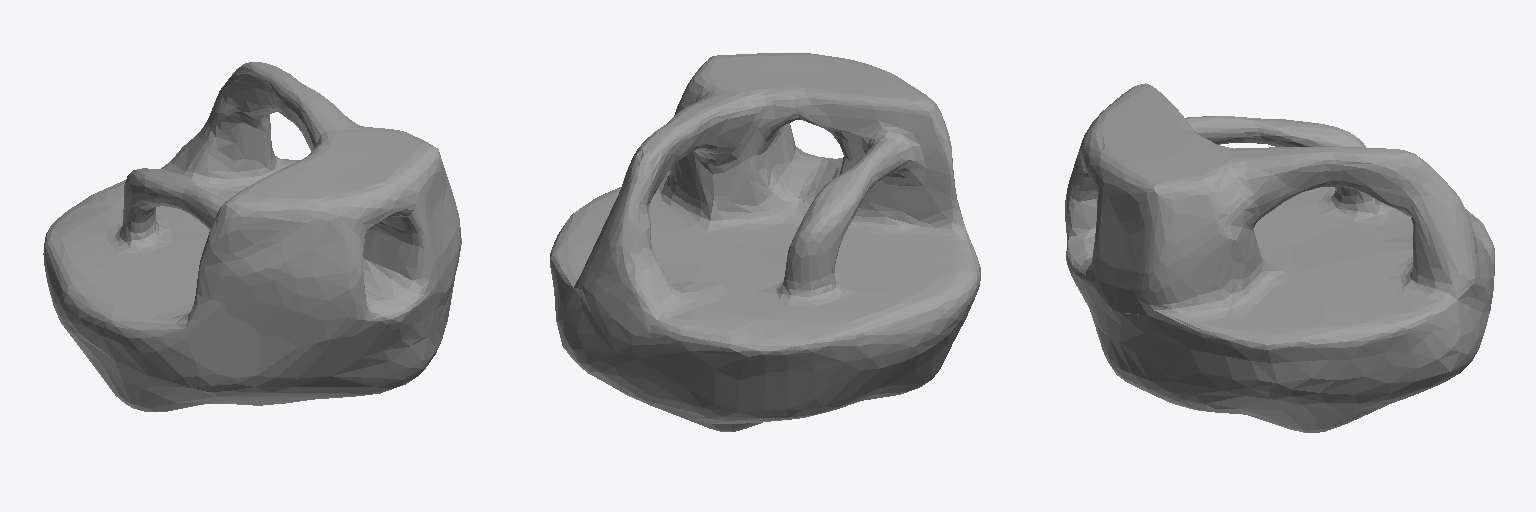
The model's file is island4Med.obj.
3 views of the same model, side by side, from view 1: azimuth 30°, elevation 25°; view 2: azimuth 150°, elevation 25°; view 3: azimuth 270°, elevation 25° (orthographic).
Parts seen in each view (by area): view 1: F3:GeoDome1_F3:GeoDome1_auv; view 2: F3:GeoDome1_F3:GeoDome1_auv; view 3: F3:GeoDome1_F3:GeoDome1_auv.
Boxes of the visible parts, x1,y1,x2,y2 form: F3:GeoDome1_F3:GeoDome1_auv: [43, 62, 461, 411]; F3:GeoDome1_F3:GeoDome1_auv: [550, 53, 980, 431]; F3:GeoDome1_F3:GeoDome1_auv: [1065, 83, 1494, 432].
Size of the model in its own units: 4.03 by 2.83 by 4.01.